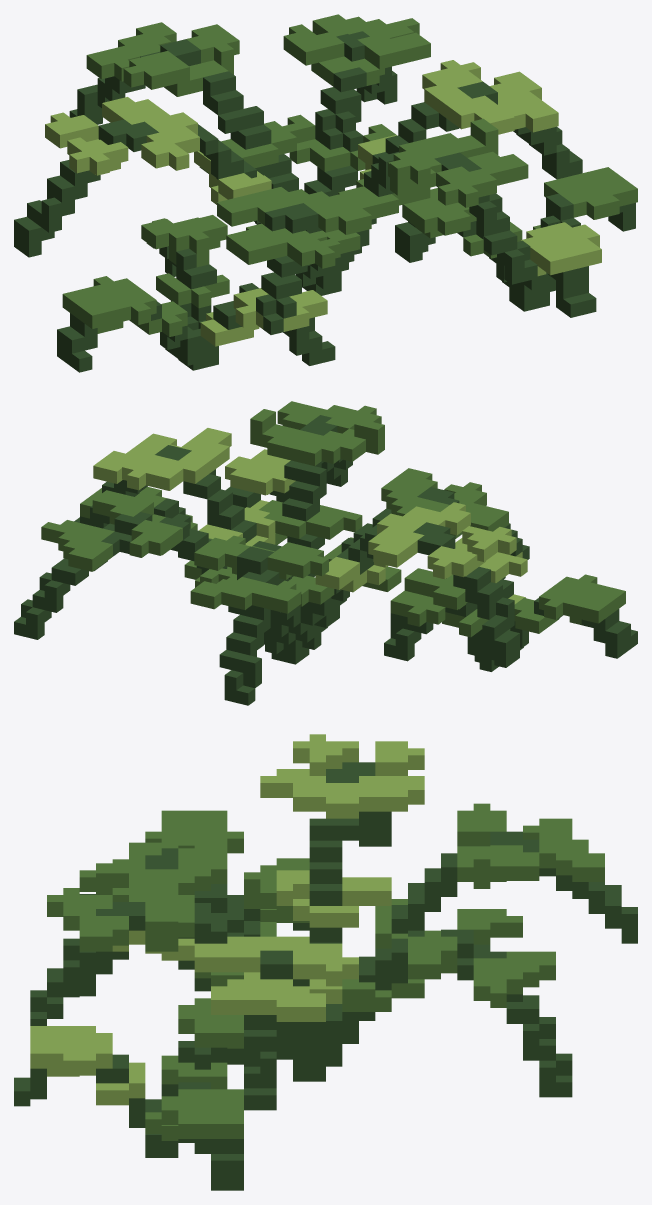
The model's file is fern_cluster_v2_species1_mid.glb.
The picture shows the model from 3 angles, top to bottom: view 1: azimuth 30°, elevation 25°; view 2: azimuth 150°, elevation 25°; view 3: azimuth 270°, elevation 25°; orthographic projection. The views are drawn at different scales.
Visible parts, largest first — view 1: fern_cluster_v2_species1_mid; view 2: fern_cluster_v2_species1_mid; view 3: fern_cluster_v2_species1_mid.
Part boxes in pixels (x1,y1,x2,y2): fern_cluster_v2_species1_mid: (14, 14, 637, 372); fern_cluster_v2_species1_mid: (14, 401, 637, 705); fern_cluster_v2_species1_mid: (14, 734, 637, 1190).
Size of the model in its own units: 2.81 by 0.875 by 2.38.
Materials: 1 (1 with a texture image).
